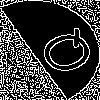Q: (25, 25, 100, 83)
